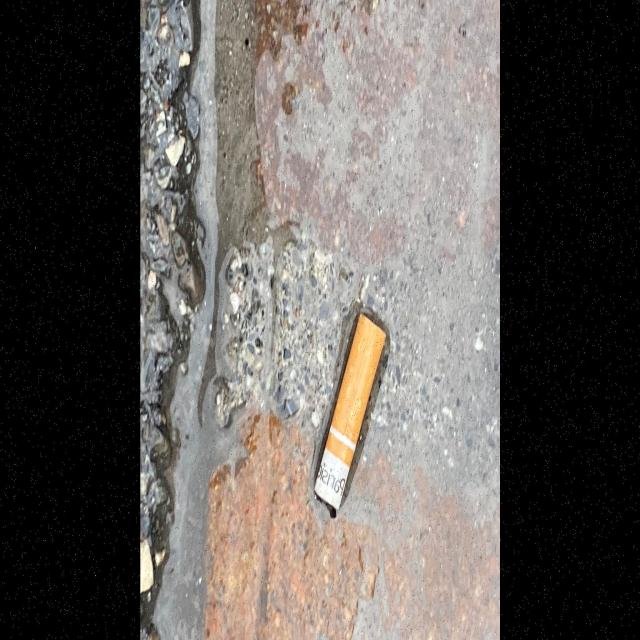other waste: (313, 310, 387, 512)
